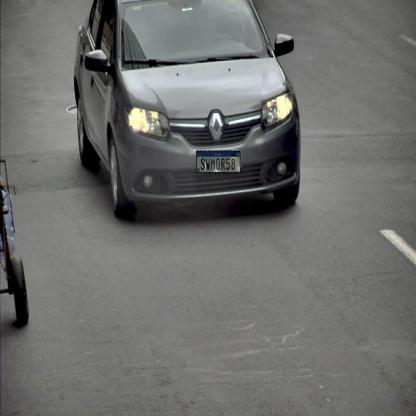PlacaM: (196, 150, 241, 174)
